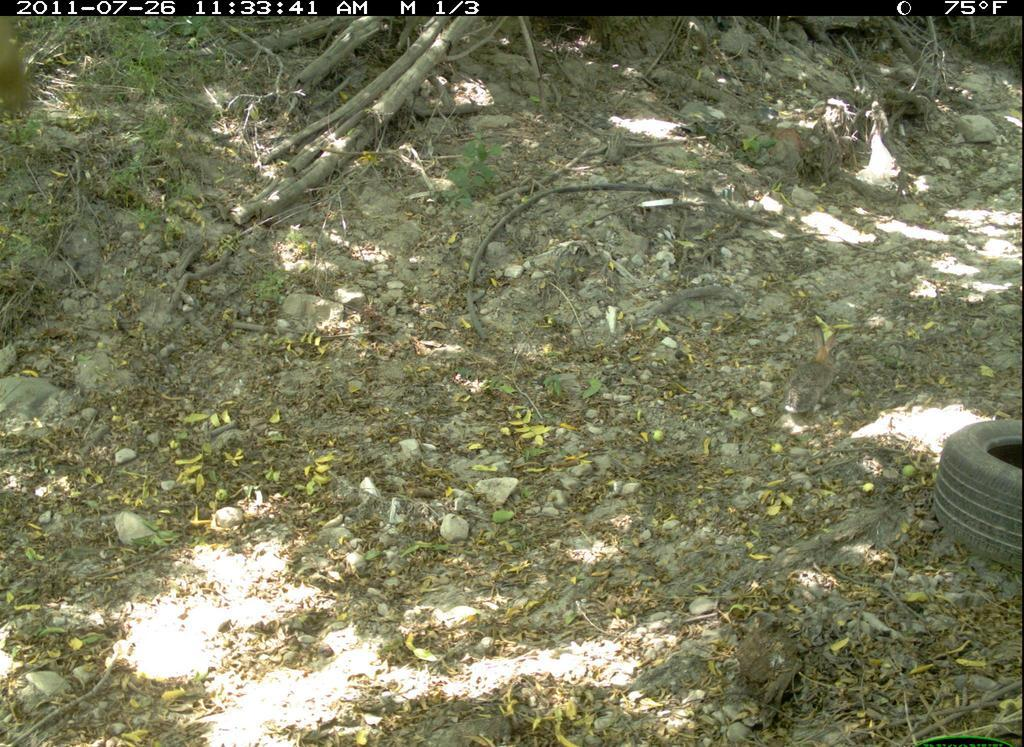rabbit: (783, 320, 846, 422)
